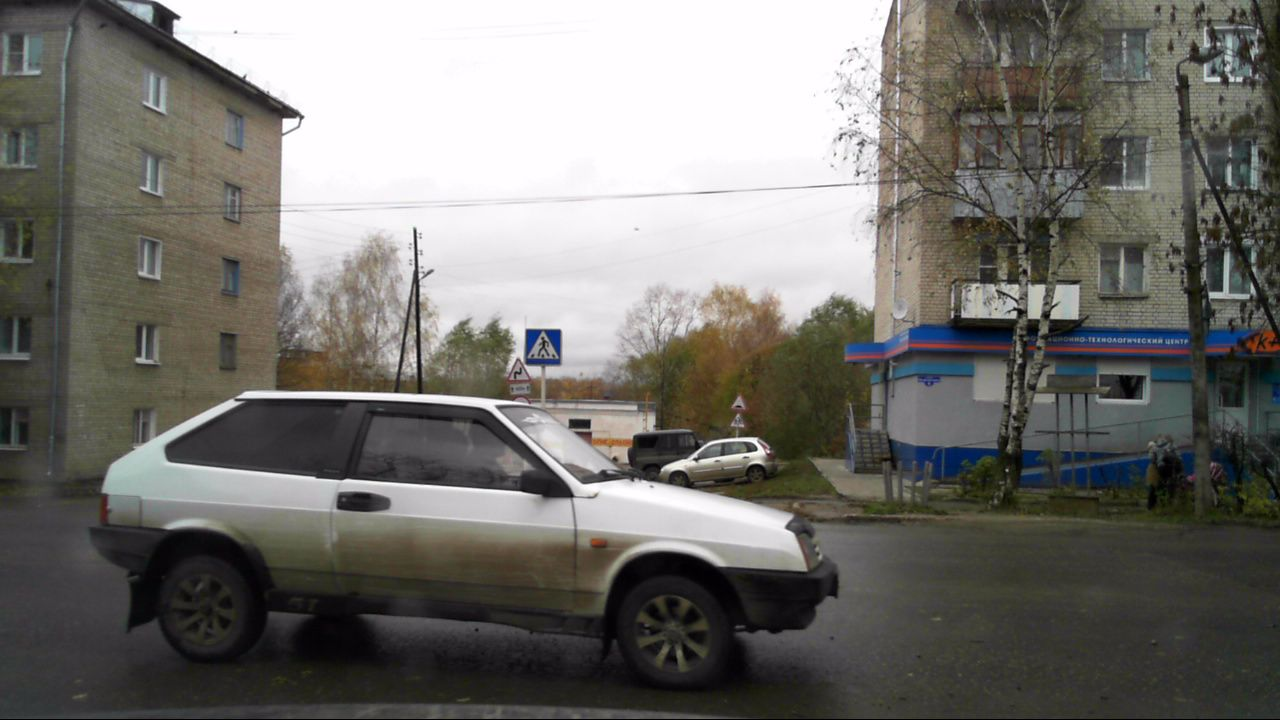speed_warning_40: (506, 396, 531, 421)
